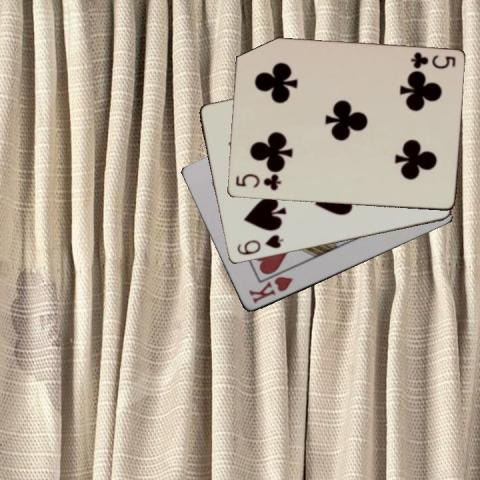5c: (407, 49, 457, 71), (233, 172, 282, 193)
6s: (233, 232, 285, 257)
Kh: (245, 274, 294, 306)
